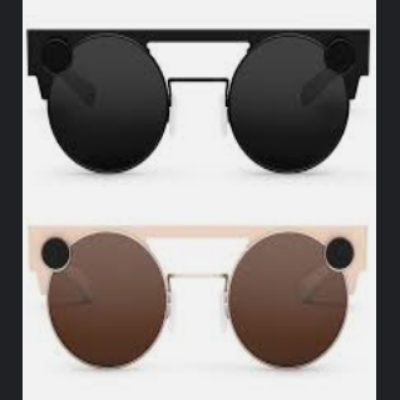glasses: (25, 20, 371, 177), (24, 219, 371, 374)
